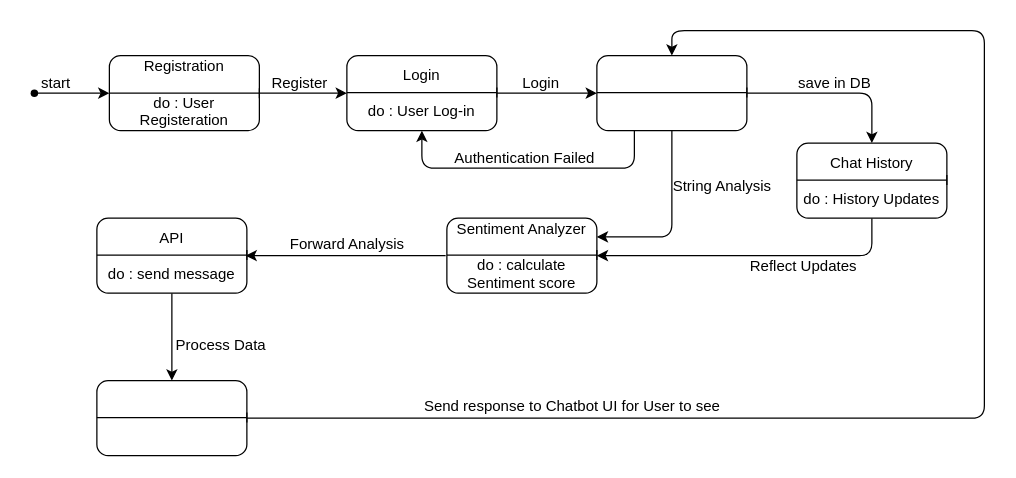
Image size: 1016x478. Some labels were removed from this diagram. The shapes that lost their labels are listed below. From the top down, each one's centre as x and y in pixels, then its label:
At pixel 671 92: "Chatbot UI do : send message".
At pixel 171 417: "Ai Response Gen do : Generate response".
